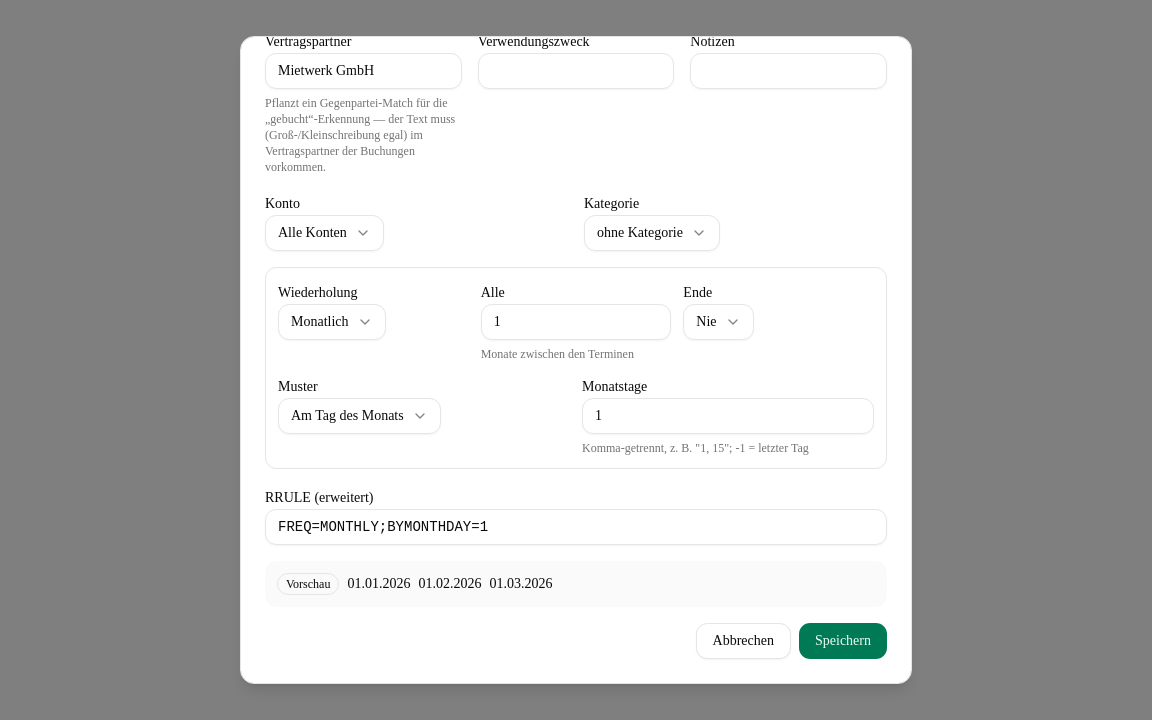
Scenario: plan dialog: raw RRULE mode validates exactly like the server › a parseable but disallowed rule (BYWEEKNO) disarms save the same way
(page scrolled)
Replace the text in the field labelled "RRULE (erweitert)" with "FREQ=MONTHLY;BYWEEKNO=10": x=576, y=527 [265, 509, 887, 545]
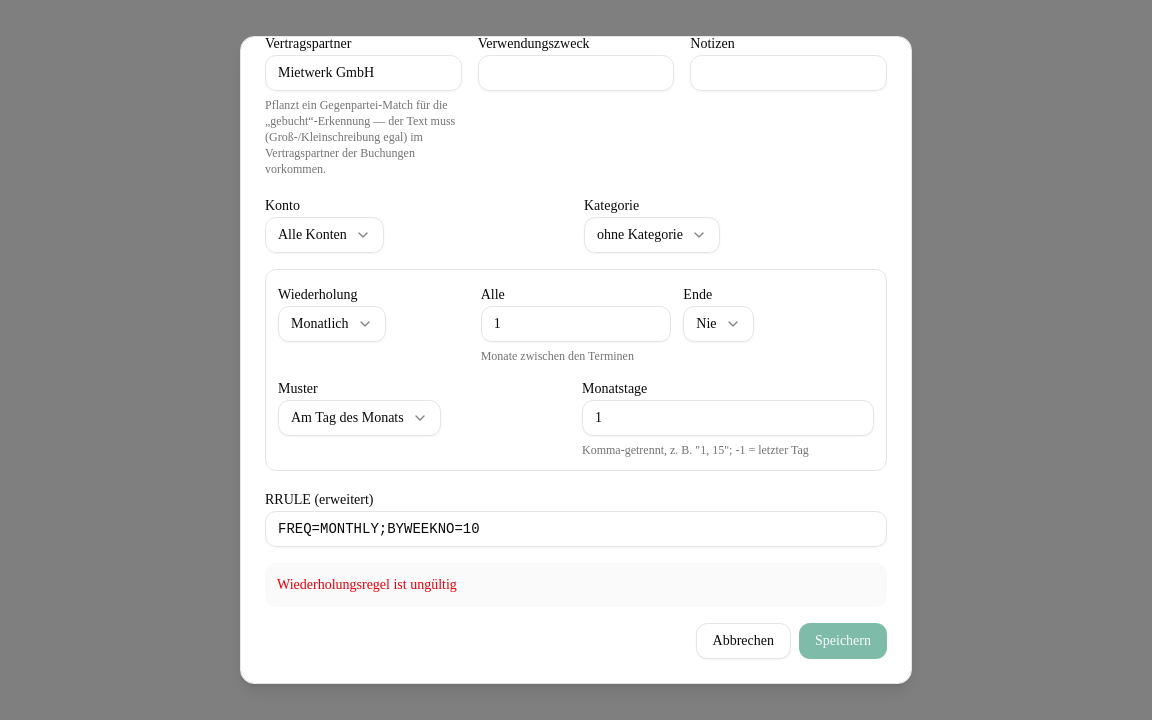
Now the text "Wiederholungsregel ist ungültig" is shown, box [277, 577, 457, 592]
Now the button "Speichern" is disabled, box [799, 623, 887, 659]
